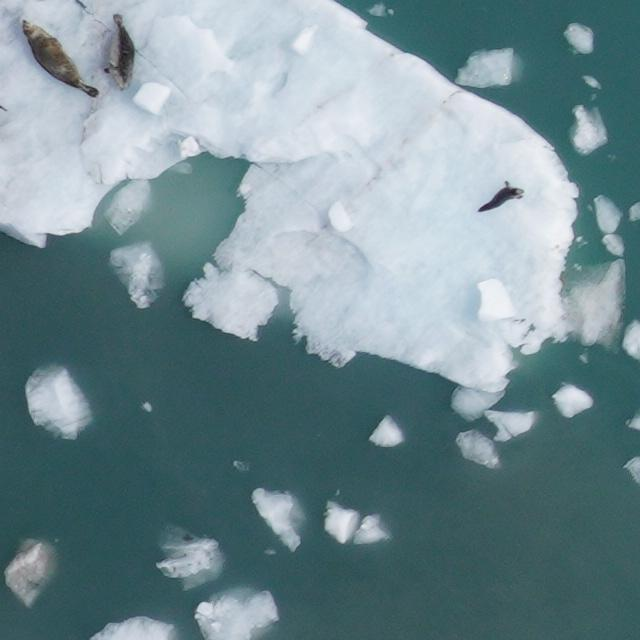seal: (9, 9, 101, 113), (104, 12, 136, 89), (470, 177, 526, 216)
